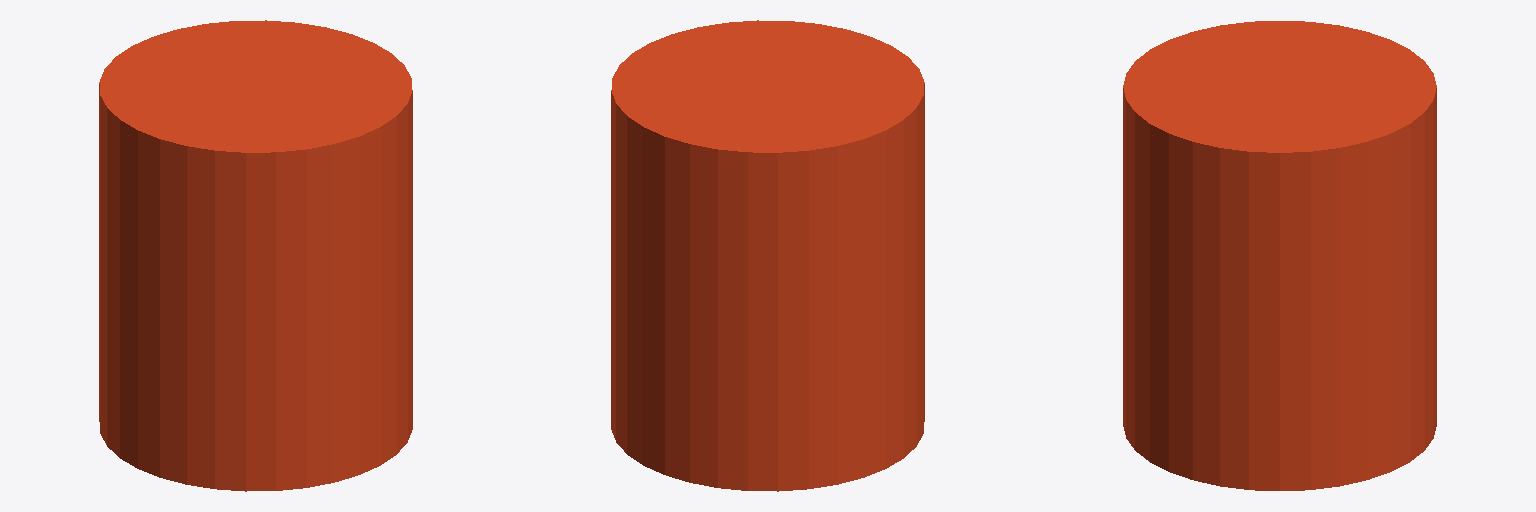
robot.urdf — obj_03:
<?xml version="1.0"?>
<robot name="obj_03">
  <!-- coffee mug: ceramic, 330 g. Written by Darius 0.2.0. Link frame: +z up, origin at the capture-time bounding-box center; place it at the pose in world.json -->
  <mujoco>
    <compiler meshdir="../meshes/" discardvisual="true" balanceinertia="true" fusestatic="false" />
  </mujoco>
  <link name="obj_03">
    <inertial>
      <origin xyz="0 0 0" rpy="0 0 0" />
      <mass value="0.33" />
      <inertia ixx="0.000638106" ixy="0" ixz="0" iyy="0.000638106" iyz="0" izz="0.000441186" />
    </inertial>
    <visual>
      <geometry>
        <cylinder radius="0.042" length="0.1" />
      </geometry>
      <material name="obj_03_color">
        <color rgba="0.894 0.341 0.18 1" />
      </material>
    </visual>
    <collision name="obj_03">
      <geometry>
        <cylinder radius="0.042" length="0.1" />
      </geometry>
    </collision>
    <contact>
      <lateral_friction value="0.55" />
      <restitution value="0.15" />
    </contact>
  </link>
</robot>

--- Render facts (derived) ---
The picture shows the robot from 3 angles, left to right: view 1: azimuth 30°, elevation 25°; view 2: azimuth 150°, elevation 25°; view 3: azimuth 270°, elevation 25°; orthographic projection.
Robot: obj_03 — 1 links, 0 joints (none); root link obj_03; default pose: every joint at zero.
Visible links, largest first — view 1: obj_03; view 2: obj_03; view 3: obj_03.
Boxes of the visible links, x1,y1,x2,y2 form: obj_03: [99, 20, 412, 491]; obj_03: [611, 20, 924, 491]; obj_03: [1123, 21, 1436, 490].
Bounding box of the posed robot: 0.084 × 0.084 × 0.1 m (x, y, z).
Geometry: primitives only (box / cylinder / sphere), no mesh files.
